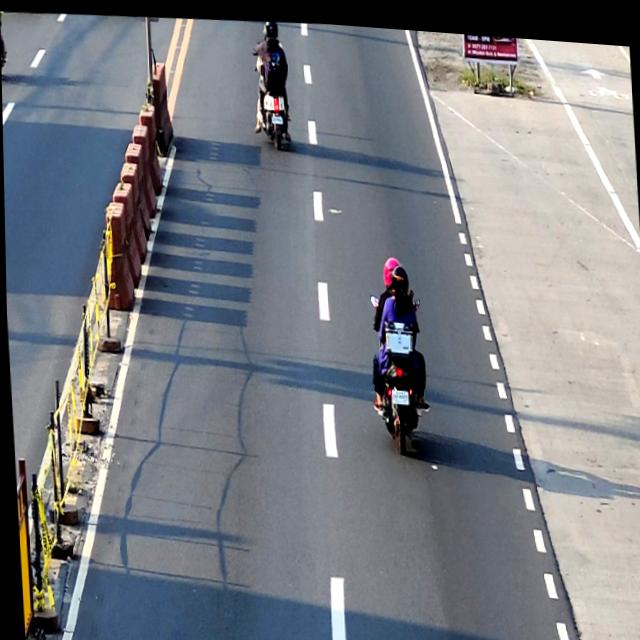License-Plate: (389, 382, 407, 399), (271, 111, 283, 119)
Motorcycle: (368, 287, 427, 451), (252, 40, 291, 148)
